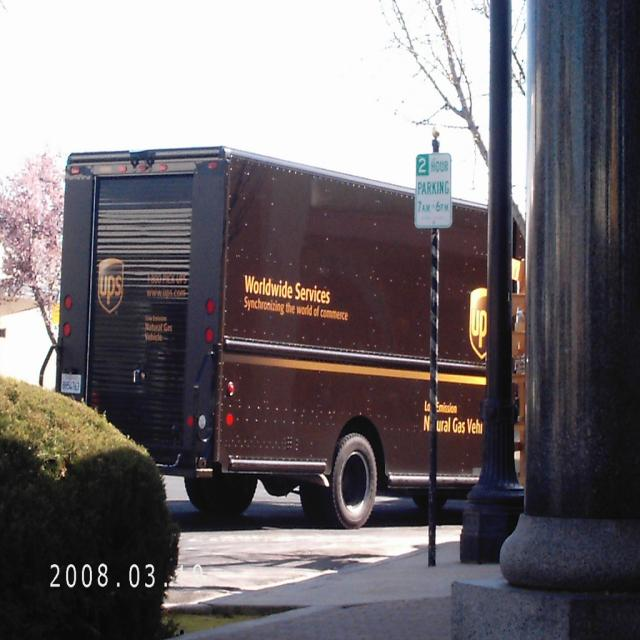ups: (99, 259, 126, 314), (471, 289, 489, 360)
